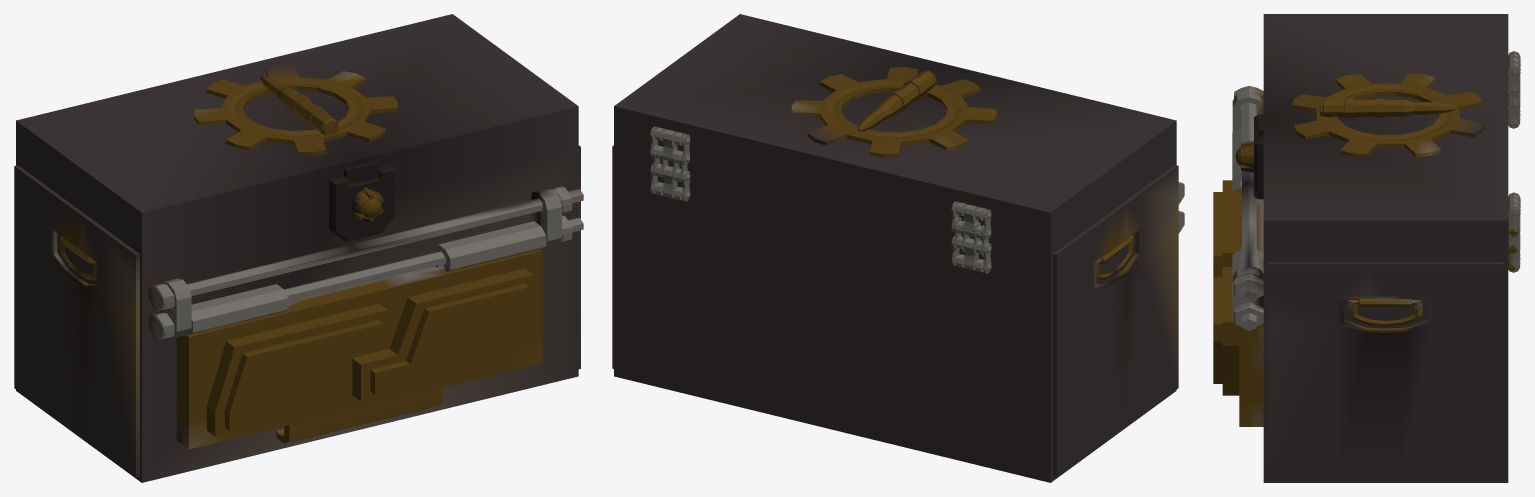
The model's file is ammo_box.fbx.
3 views of the same model, side by side, from view 1: azimuth 30°, elevation 25°; view 2: azimuth 150°, elevation 25°; view 3: azimuth 270°, elevation 25° (orthographic). The views are drawn at different scales.
Visible parts, largest first — view 1: Merged_cube_NewUVs1; view 2: Merged_cube_NewUVs1; view 3: Merged_cube_NewUVs1.
Boxes of the visible parts, bbox=[...] form: Merged_cube_NewUVs1: bbox=[14, 14, 583, 482]; Merged_cube_NewUVs1: bbox=[612, 14, 1184, 482]; Merged_cube_NewUVs1: bbox=[1213, 14, 1520, 482].
Size of the model in its own units: 0.2041 by 0.1269 by 0.1255.
